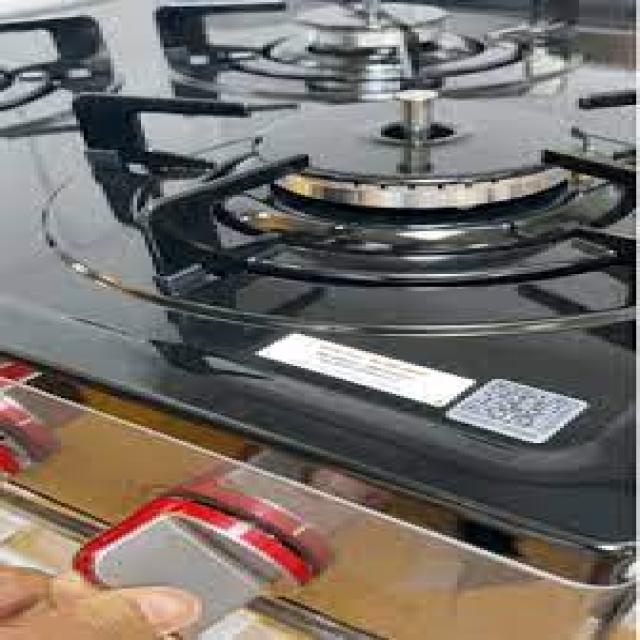knob_ON: (186, 73, 621, 262)
